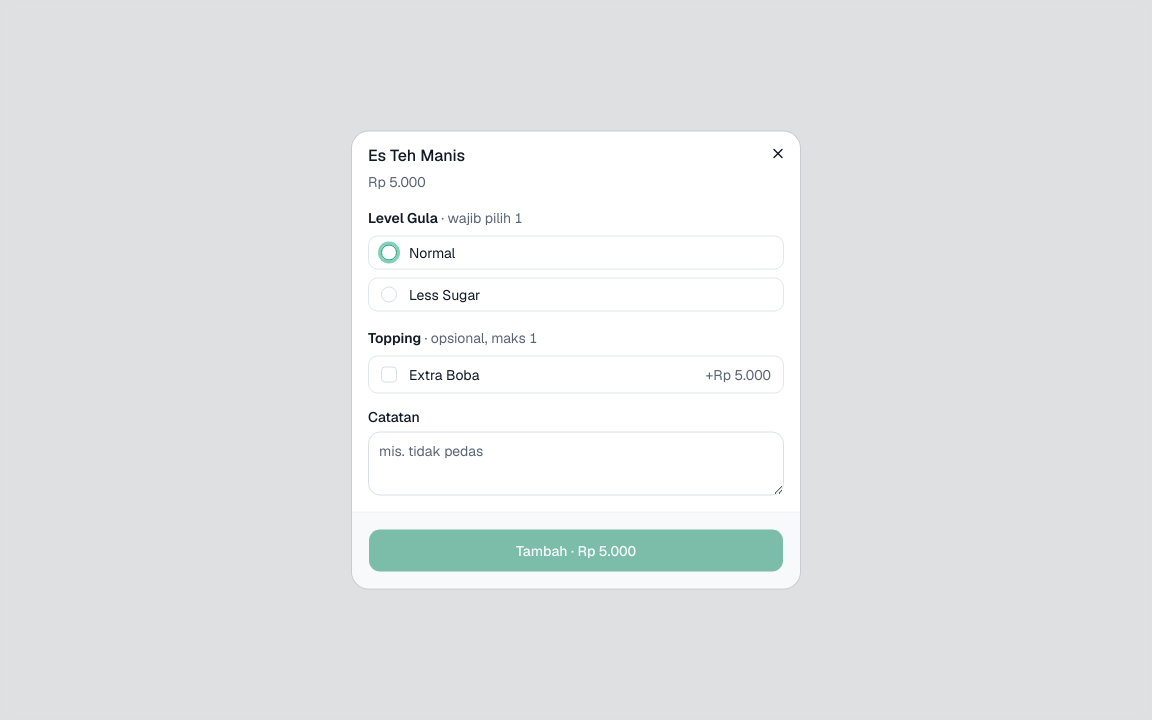
LineEditorDialog › requires a choice in a required group before adding
Expected: the button "Tambah · Rp 5.000" is disabled, x1=368 y1=528 x2=784 y2=572
Click the radio button named "Less Sugar" next to "Less Sugar". click: (389, 294)
box: x1=381 y1=286 x2=397 y2=302
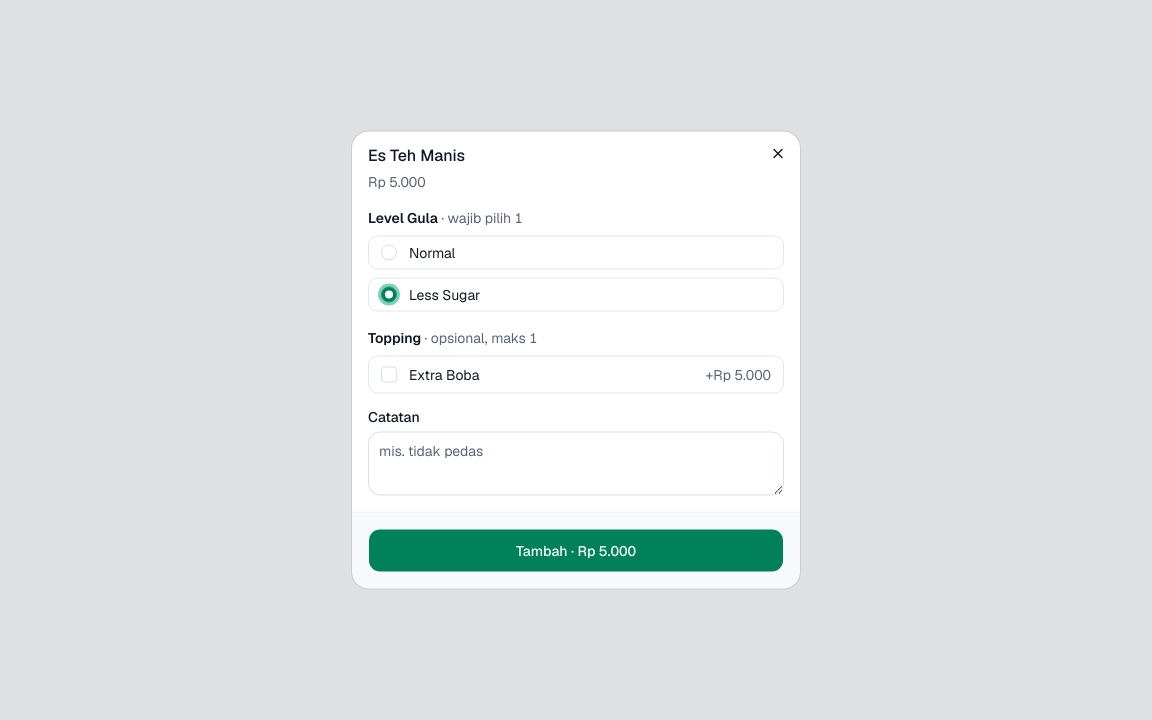
Expected: the button "Tambah · Rp 5.000" is enabled, x1=368 y1=528 x2=784 y2=572
